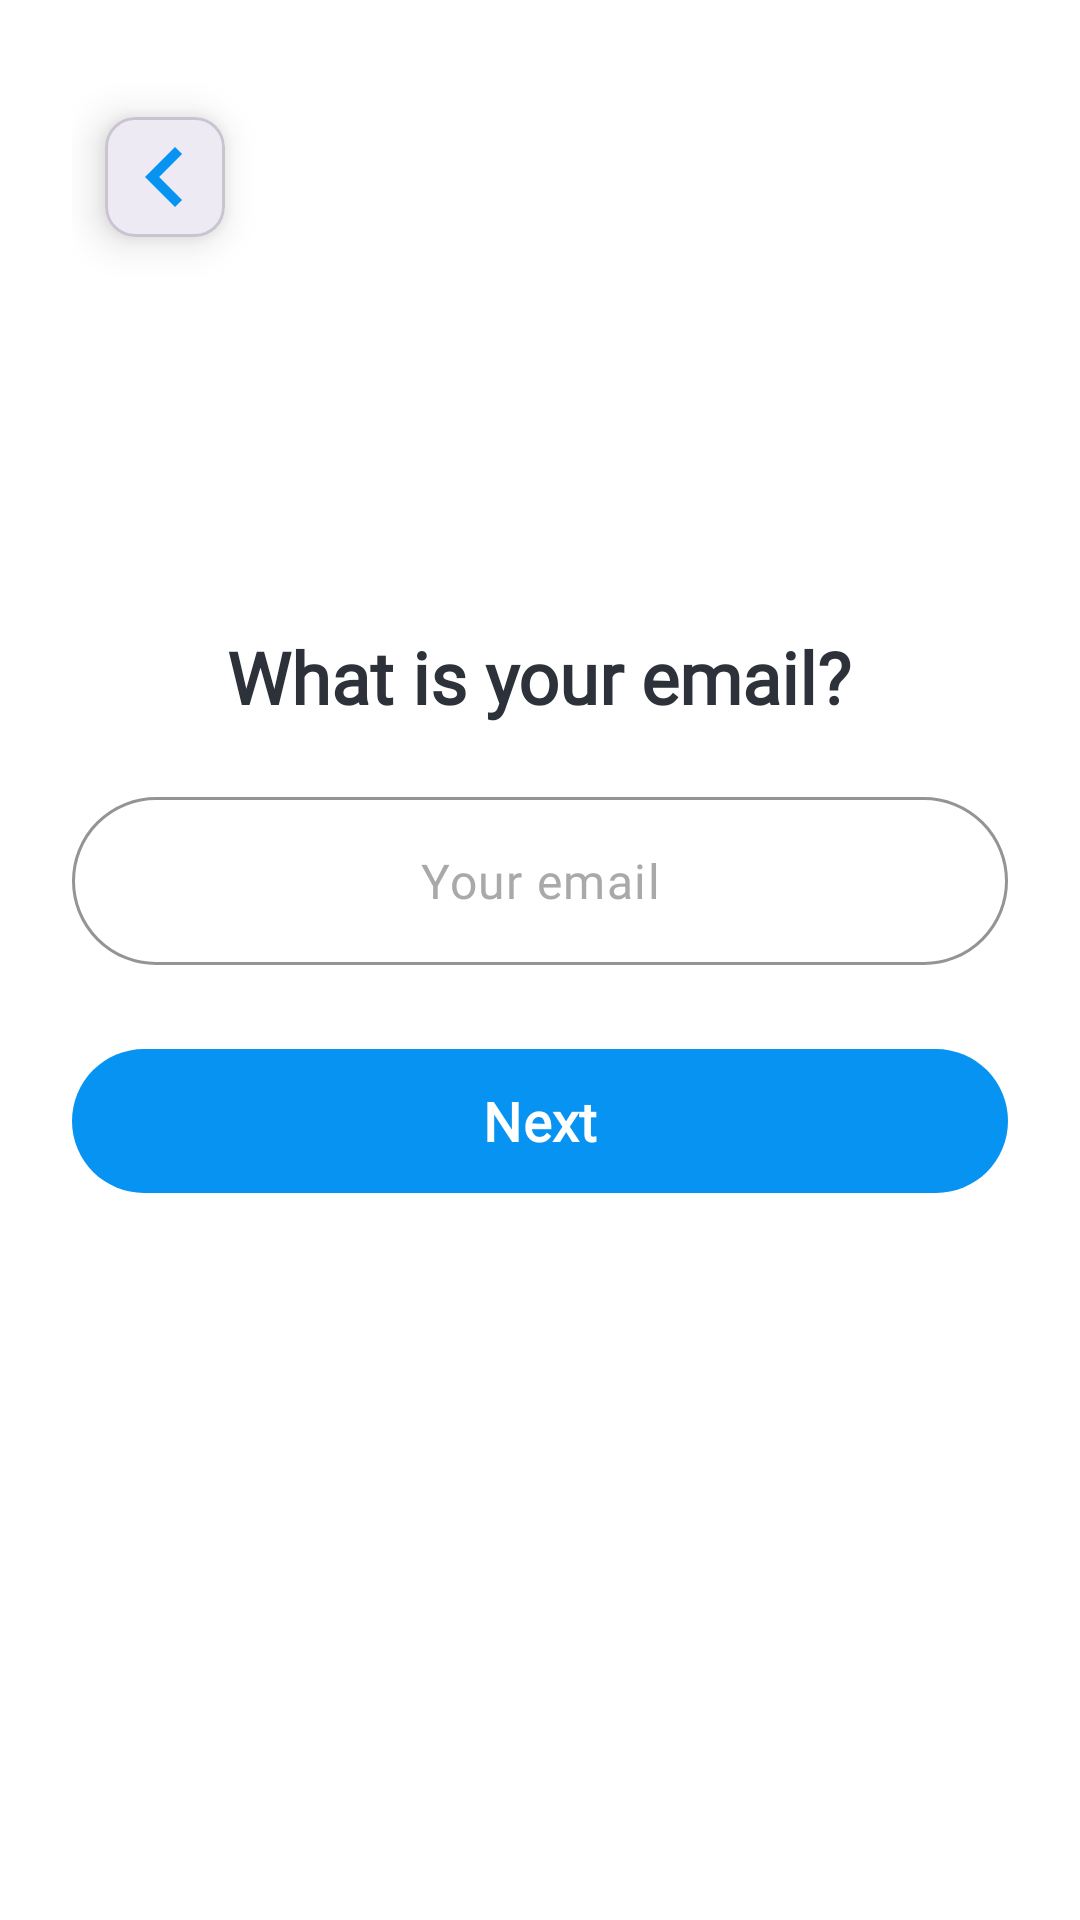

Named icons in this screenshot (1080px x 1920px) and their centers, point (x, y):
Back: point (165, 177)
